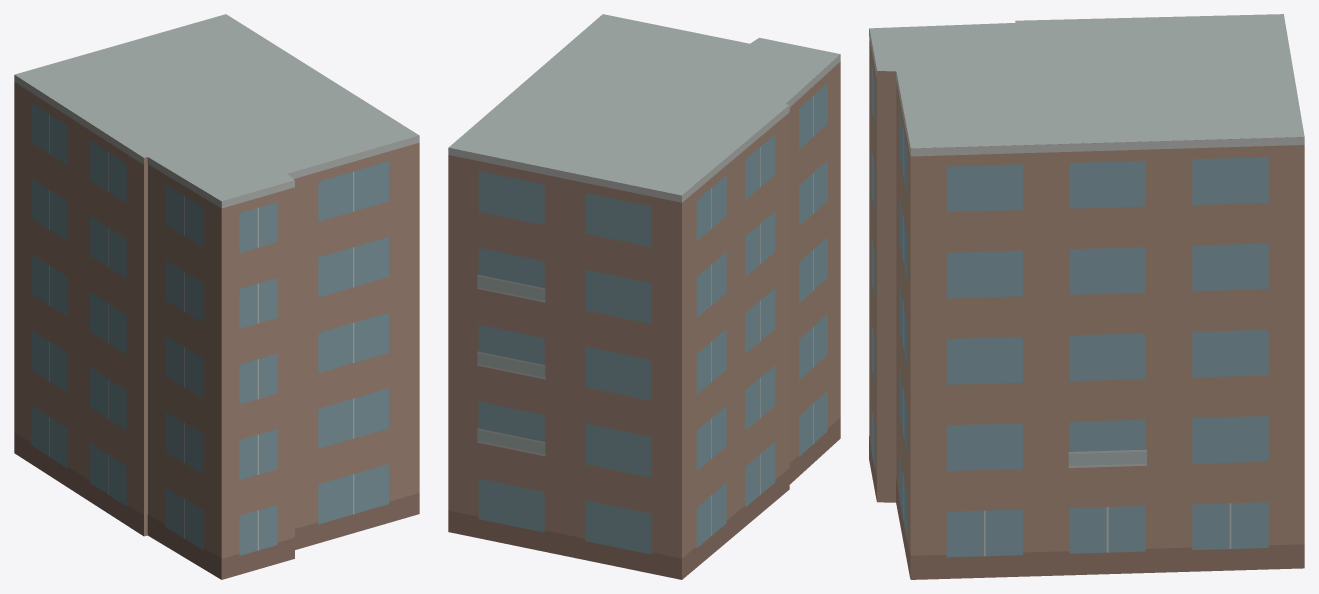
File: survey-upis-32706221.glb
3 renders of one model, left to right at view 1: azimuth 30°, elevation 25°; view 2: azimuth 150°, elevation 25°; view 3: azimuth 270°, elevation 25°, orthographic. The views are drawn at different scales.
Visible parts, largest first — view 1: survey-upis-32706221.tmp; view 2: survey-upis-32706221.tmp; view 3: survey-upis-32706221.tmp.
Boxes of the visible parts, <box> form: survey-upis-32706221.tmp: <box>14,14,419,579</box>; survey-upis-32706221.tmp: <box>448,14,840,579</box>; survey-upis-32706221.tmp: <box>869,14,1304,579</box>.
Bounding box in the file's own units: 8.73 × 13.05 × 11.95.
